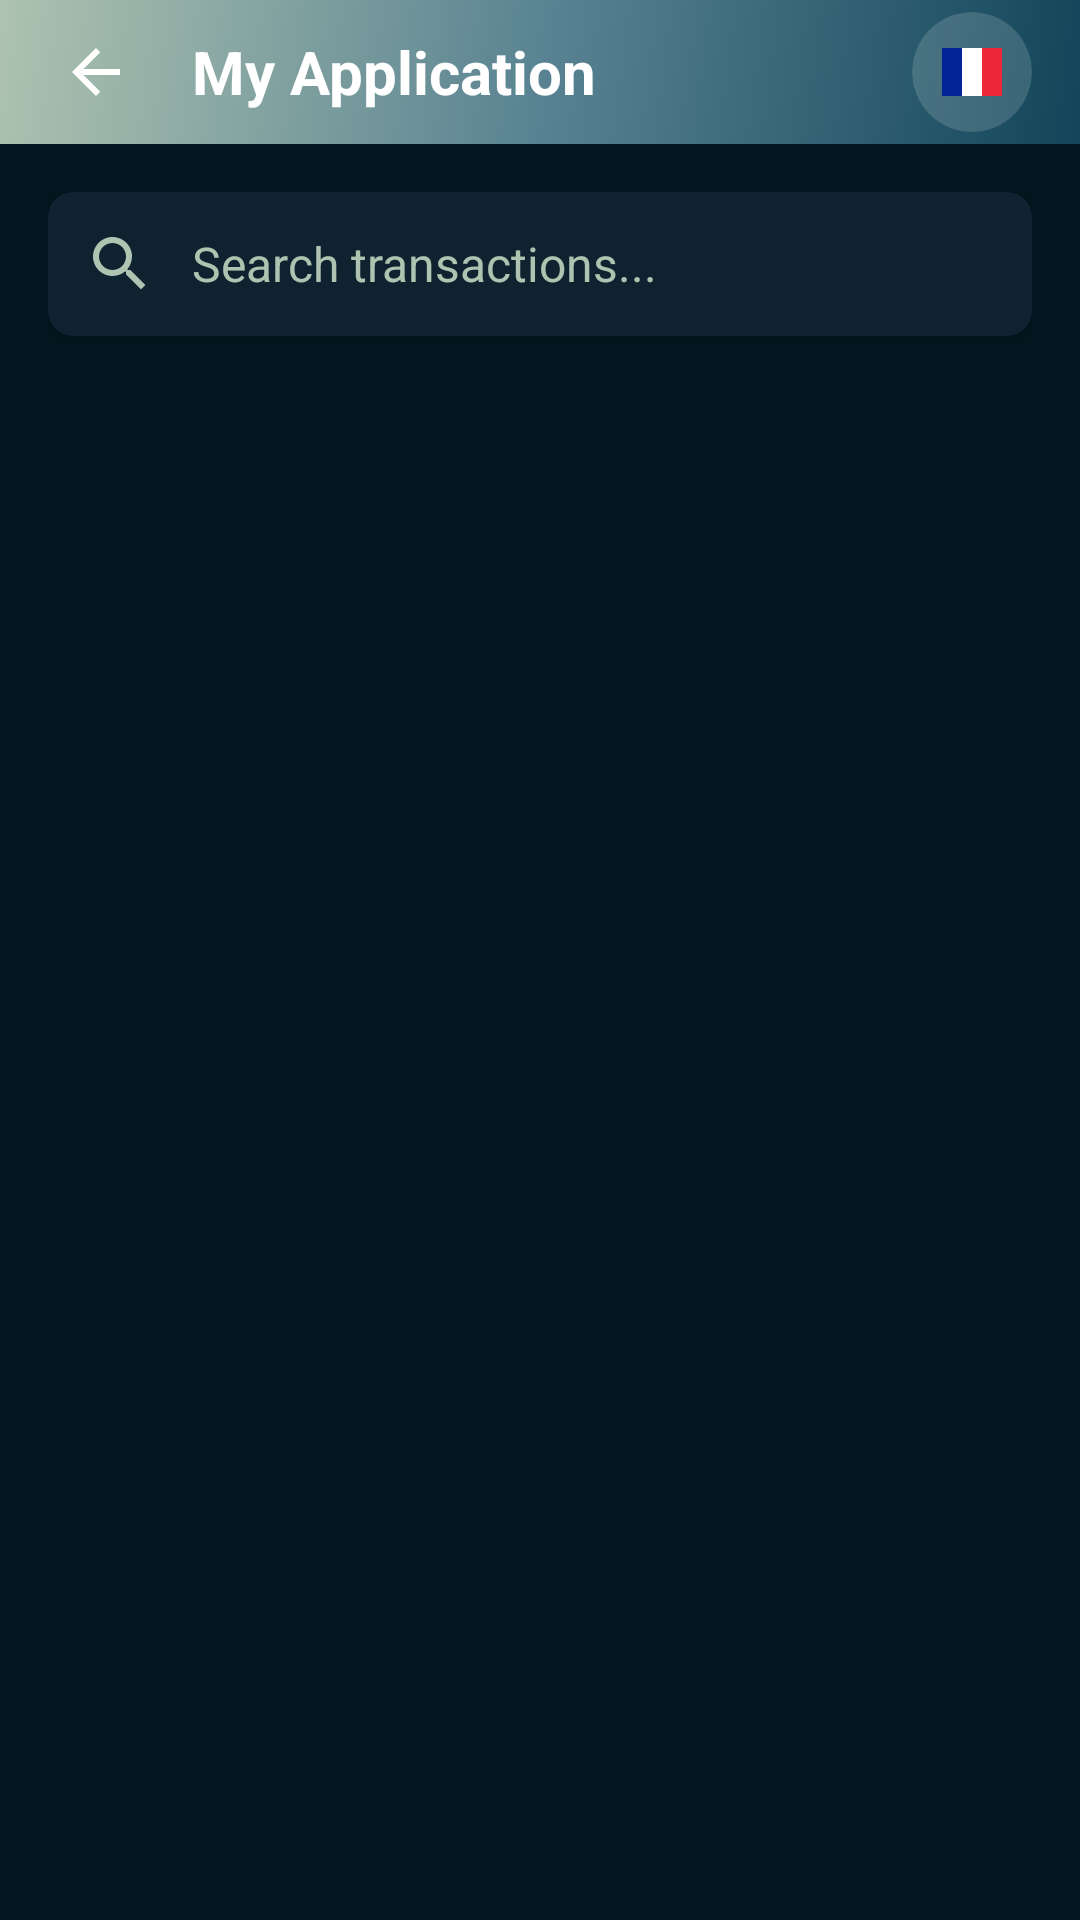

Icon bounding boxes for this 1080w x 1920h phone screenshot, format (x1, y1, x2, y2):
back: (72, 48, 120, 96)
flag fr: (942, 48, 1002, 96)
